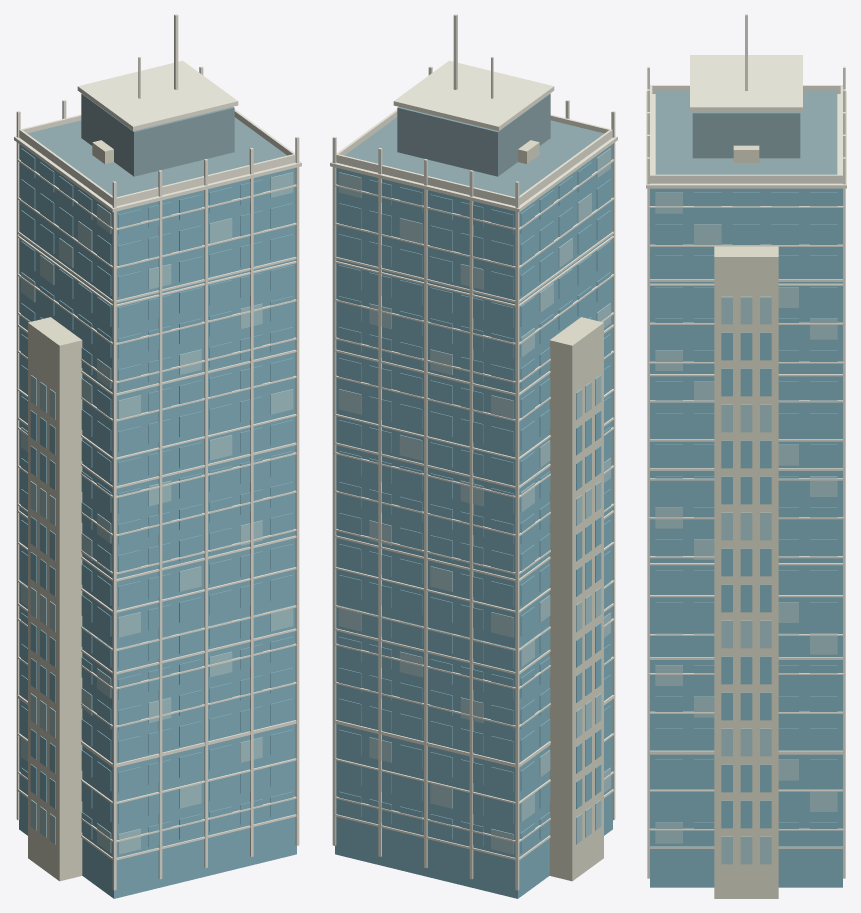
Rendered from building-c.glb.
The picture shows the model from 3 angles, left to right: view 1: azimuth 30°, elevation 25°; view 2: azimuth 150°, elevation 25°; view 3: azimuth 270°, elevation 25°; orthographic projection.
Visible parts, largest first — view 1: Sora_Building_C_Surface; view 2: Sora_Building_C_Surface; view 3: Sora_Building_C_Surface.
Part boxes in pixels (left/top/right/bottom): Sora_Building_C_Surface: left=14, top=14, right=301, bottom=898; Sora_Building_C_Surface: left=330, top=14, right=617, bottom=898; Sora_Building_C_Surface: left=646, top=14, right=846, bottom=898.
Bounding box in the file's own units: 25.17 × 86 × 18.7.
